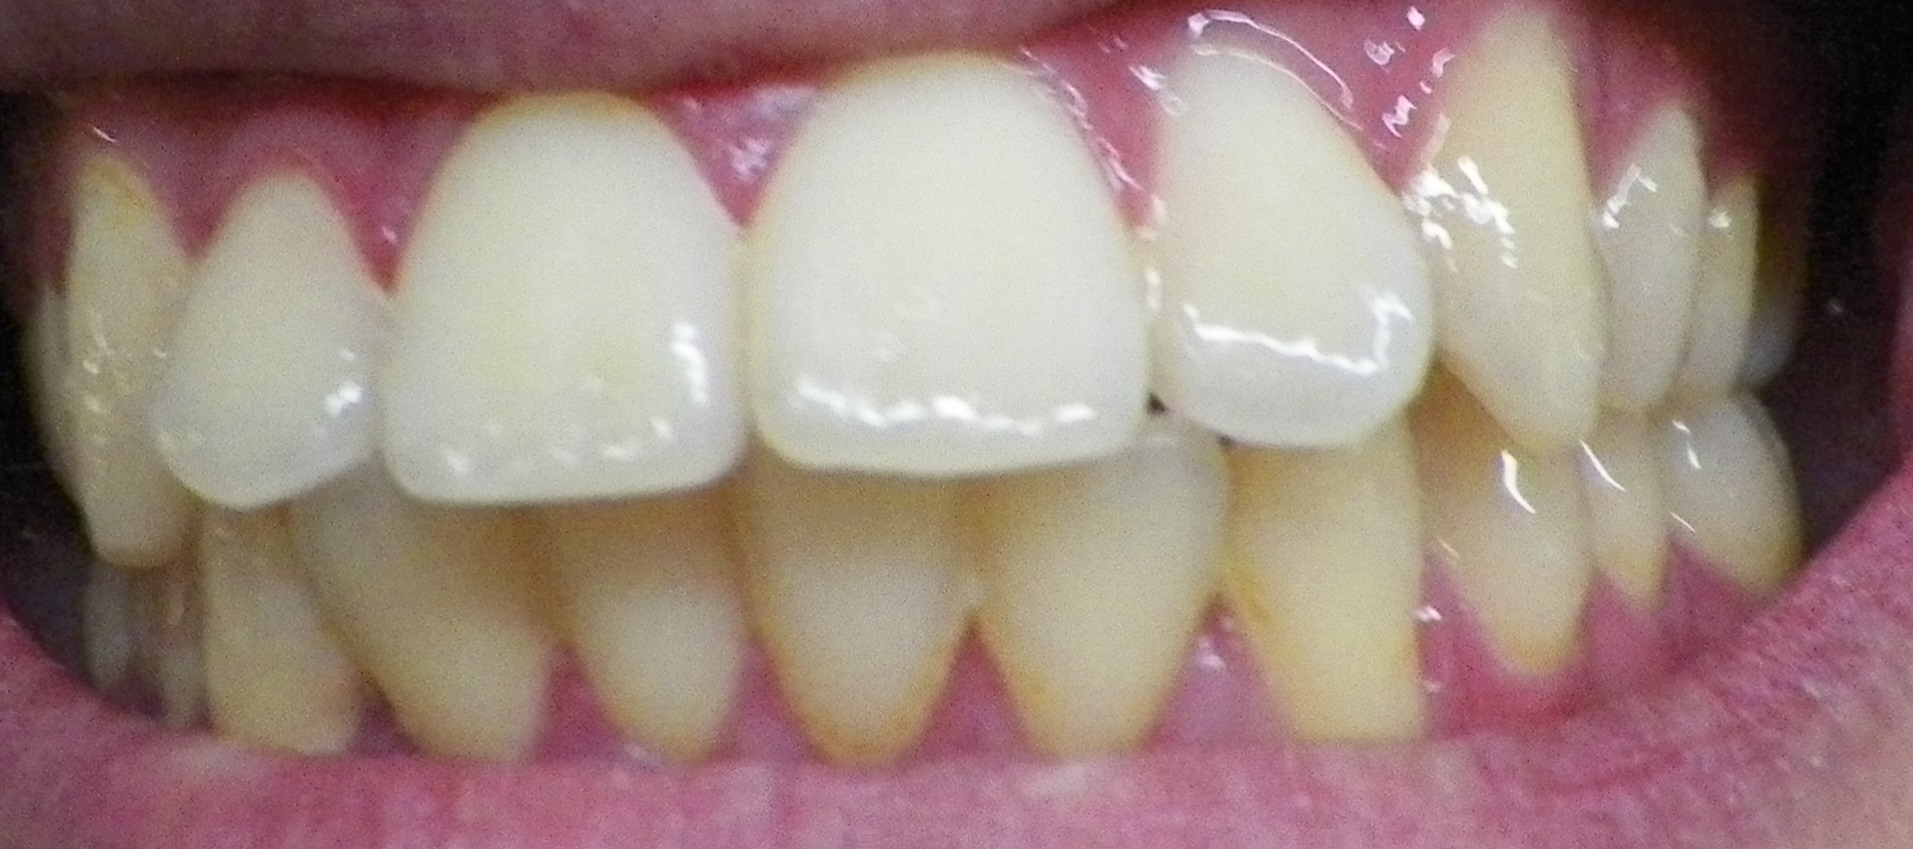boca: (32, 40, 1784, 765)
